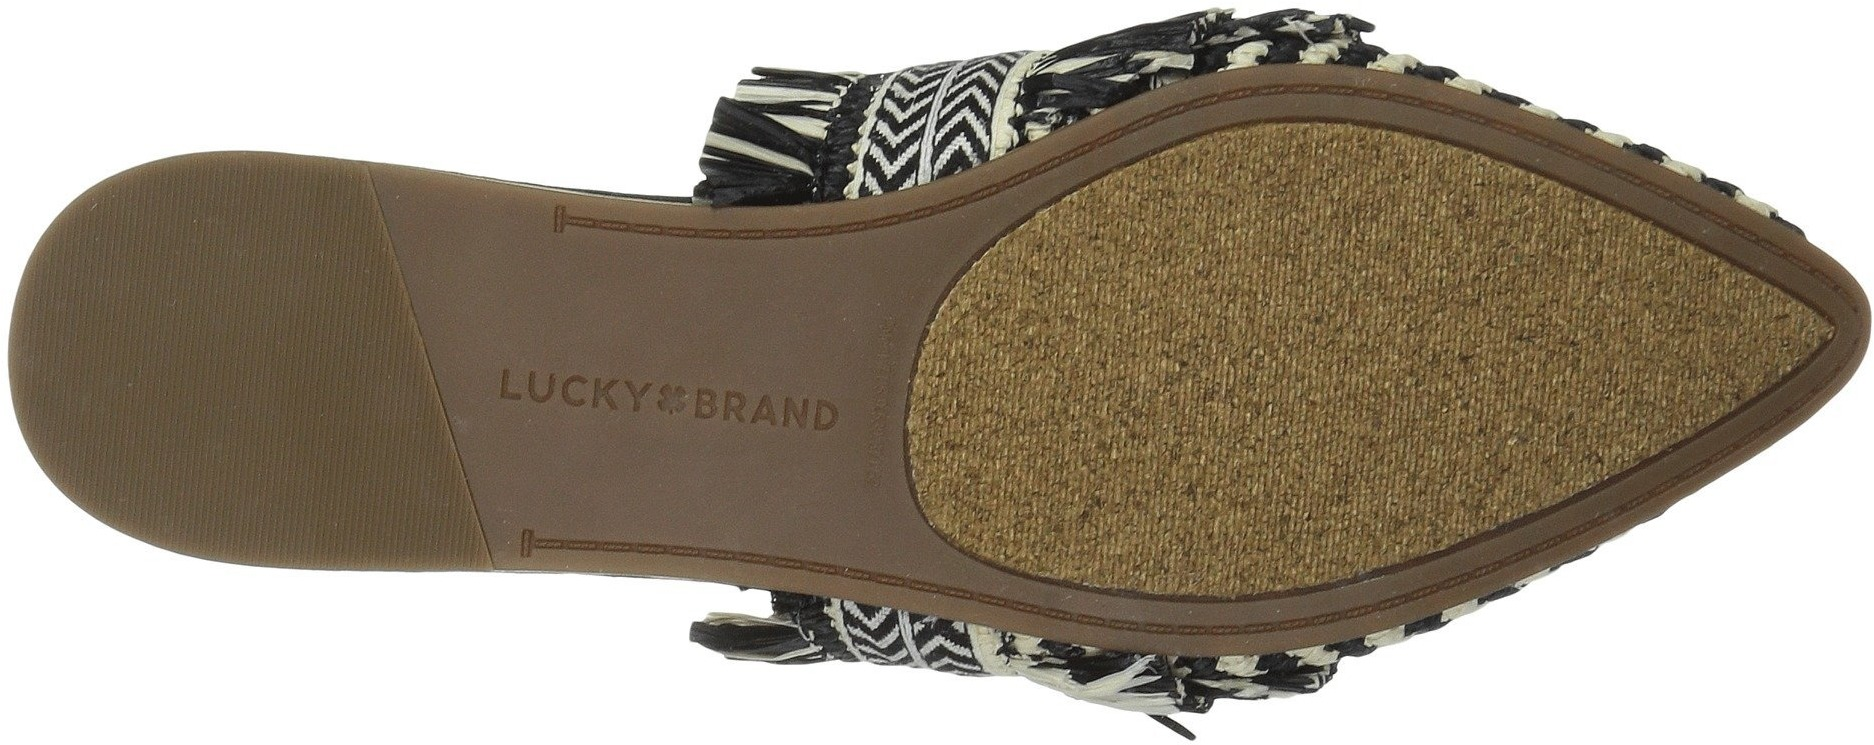other: (62, 224, 376, 520)
text: (479, 325, 632, 472), (730, 342, 863, 470)
